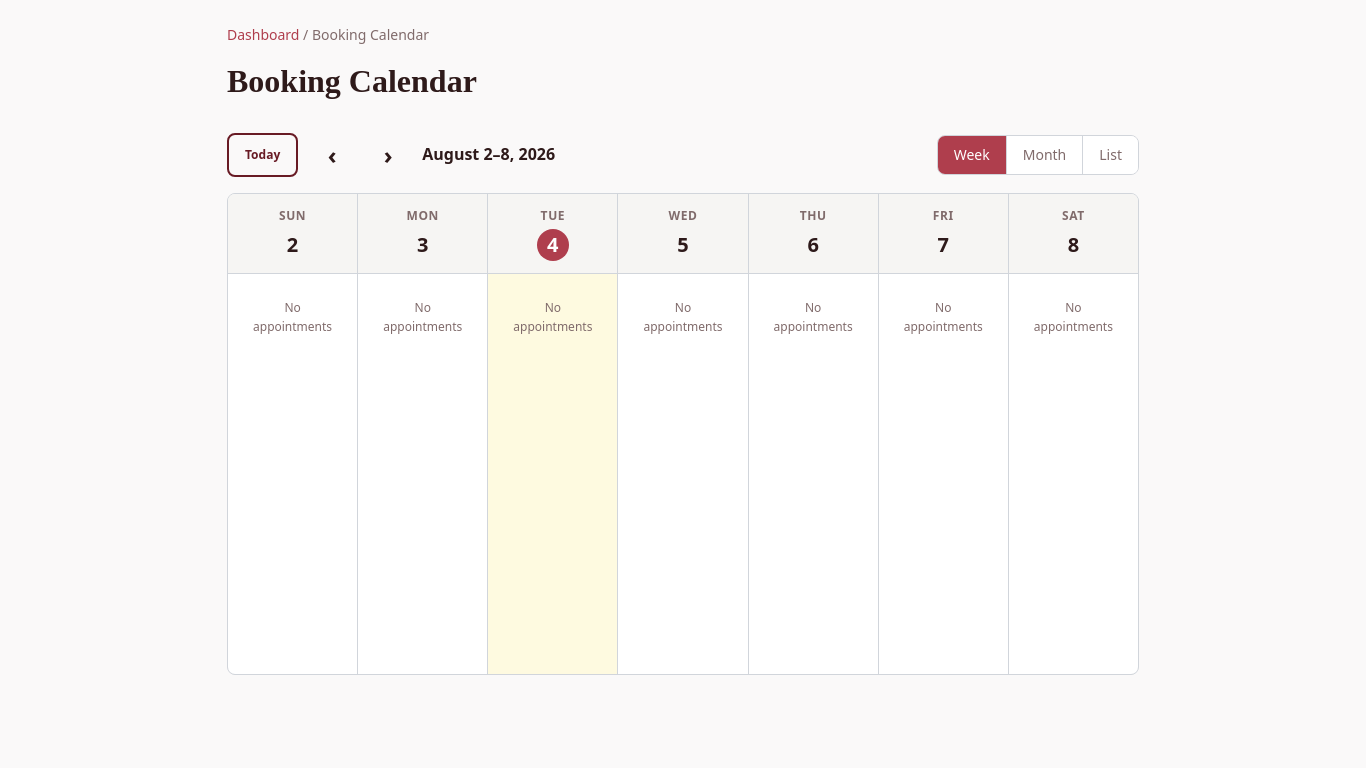
Scenario: AppointmentsCalendarPage — Table row in appointment detail › shows the assigned bed name in the appointment detail modal
Step 1. Click the button "List" → (1111, 155), box [1083,136,1138,174]
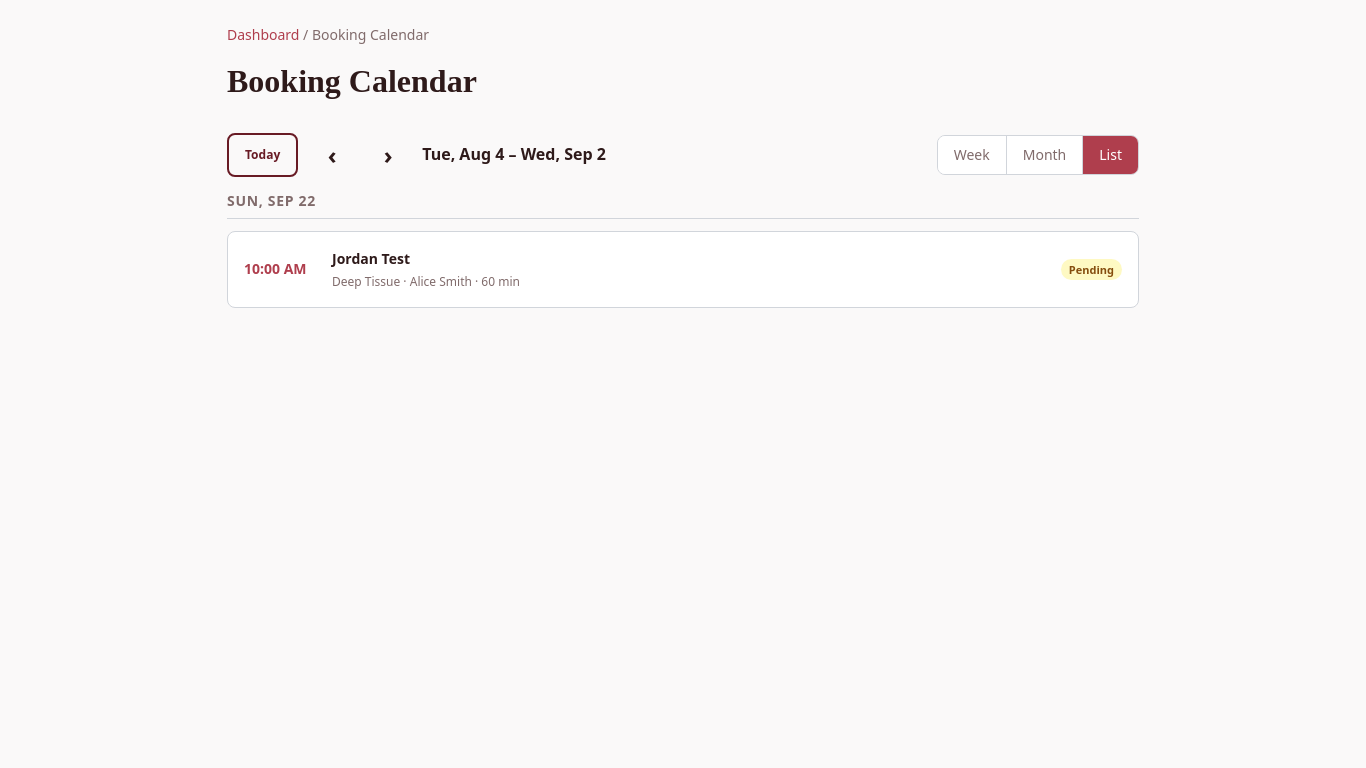
Result: the text "Jordan Test" is shown at [332,249,410,268]
Step 2. Click the button "Jordan Test" → (275, 269), box [227,231,1139,308]
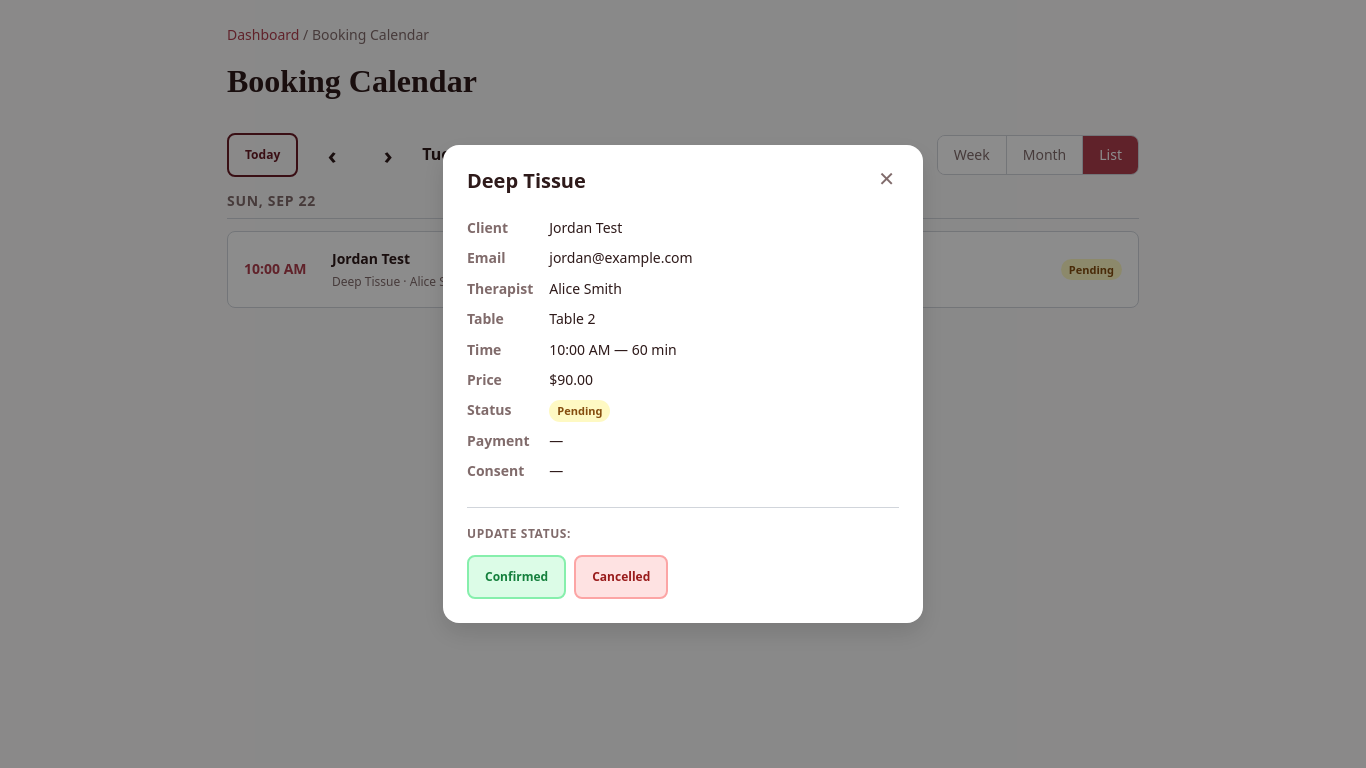
Result: the heading "Deep Tissue" is shown at [467,169,586,193]
Result: the text "Table" is shown at [467,309,504,328]
Result: the text "Table 2" is shown at [549,309,596,328]
